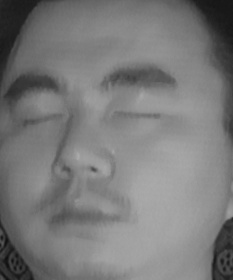blink: (113, 98, 164, 132), (16, 103, 67, 136)
mouth: (40, 186, 126, 241)
